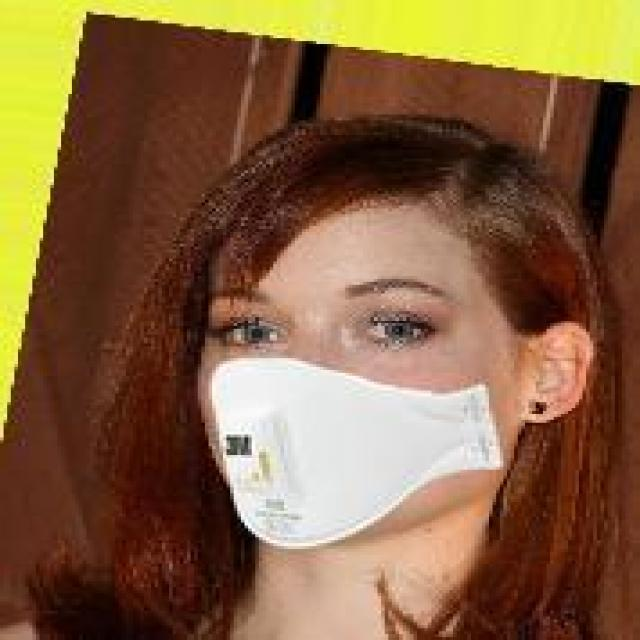mask: (94, 91, 600, 593)
